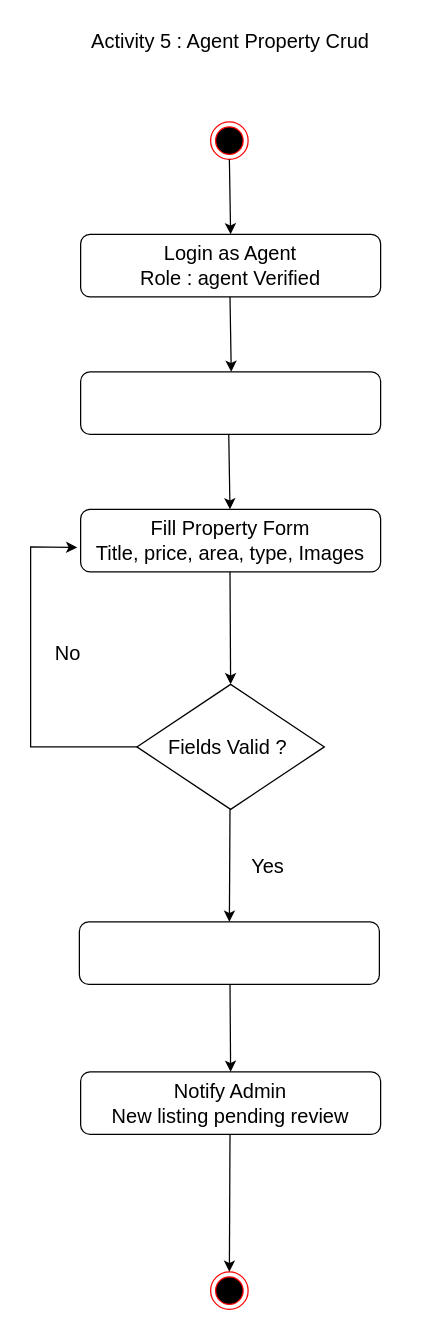
The diagram is 440 pixels wide and 1331 high, and some of its shapes have lost their labels. Each missing label, with the centre of its shape:
"Open Agent Dashboard" goes at (230,402).
"Save to DS2 : Properties status = inactive" goes at (228,952).
